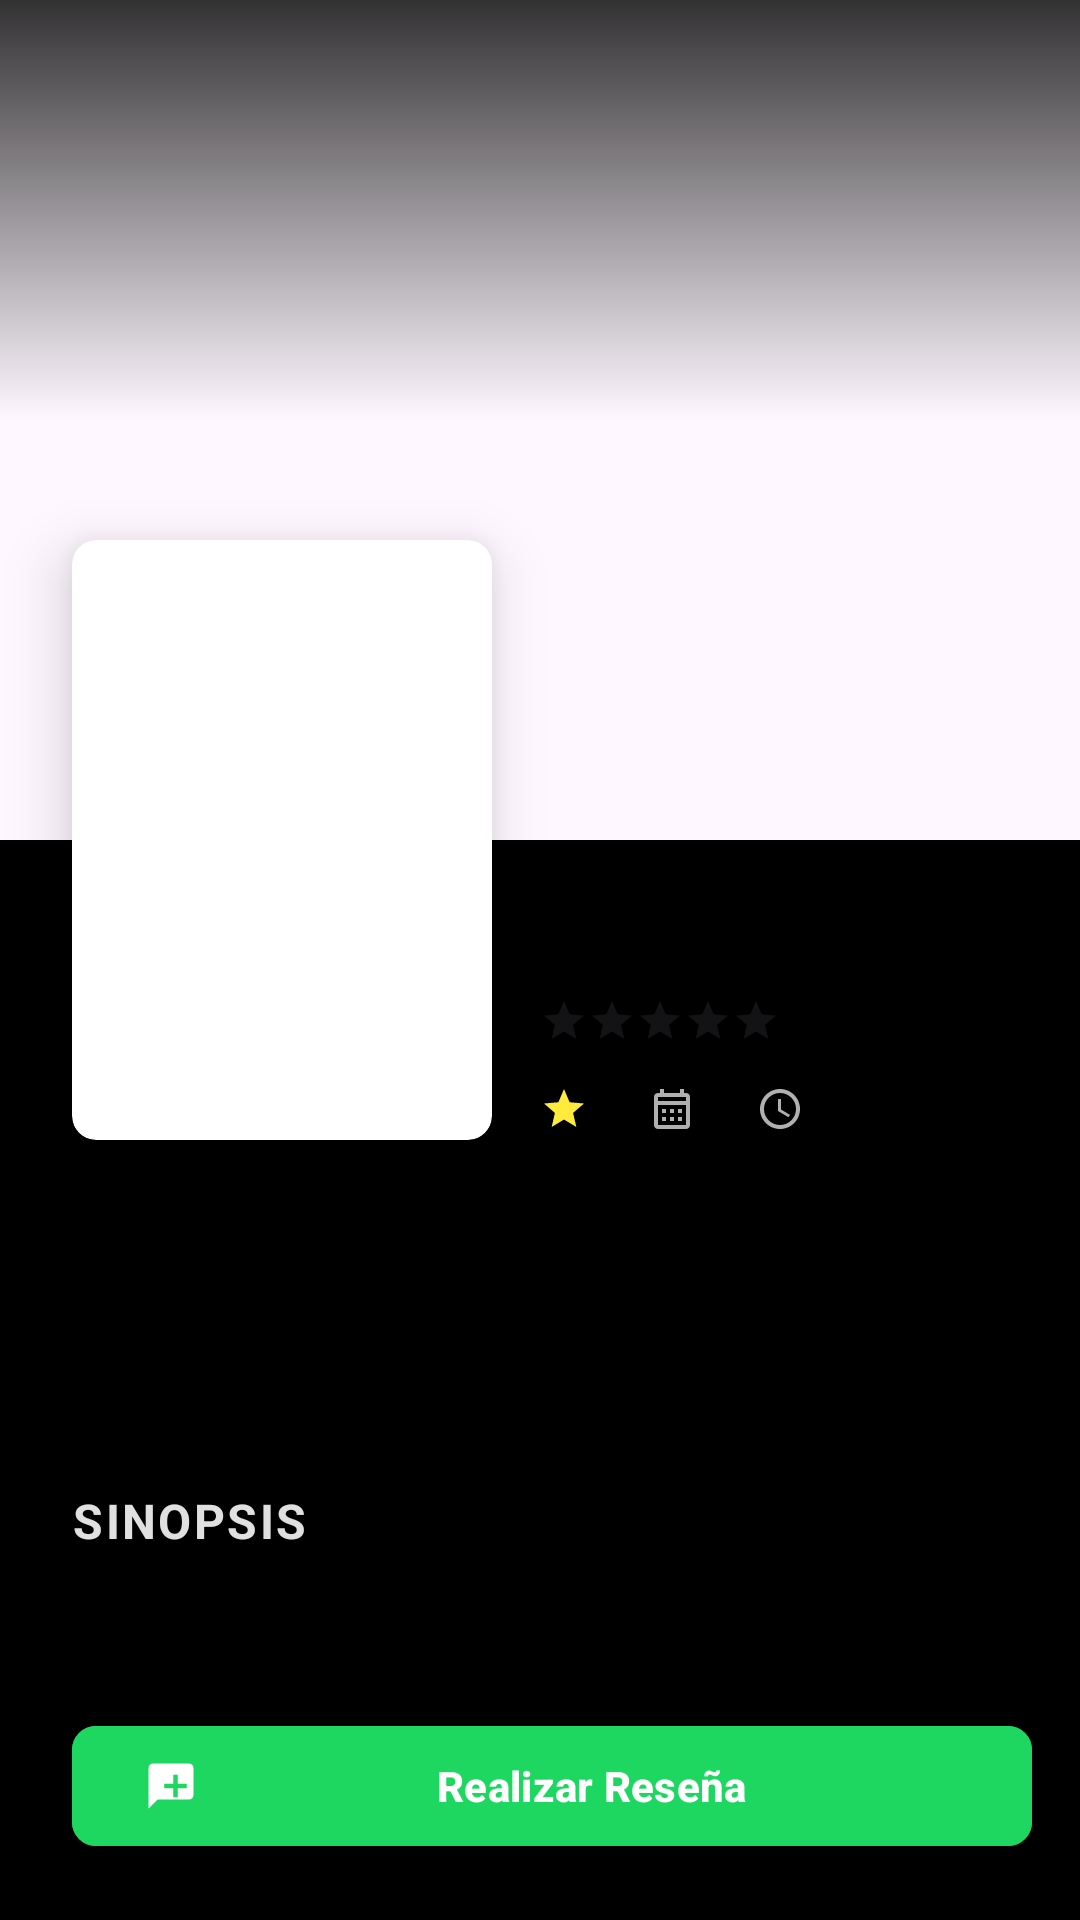

Screen size 1080px x 1920px. Icon name, then its center in pixels as (x,y):
calendar year: (672,1109)
clock runtime: (780,1109)
star rating: (564,1108)
